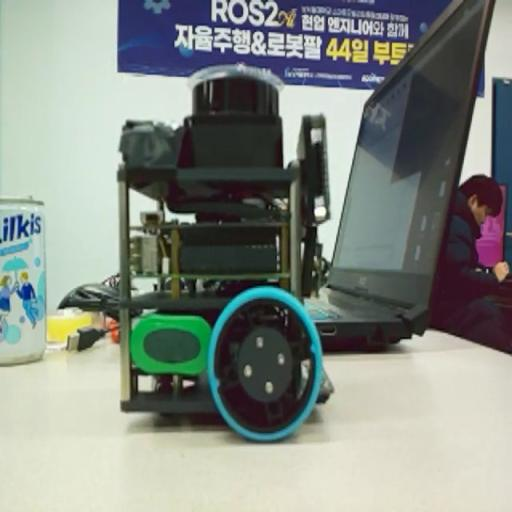pinky_63: (112, 67, 330, 439)
